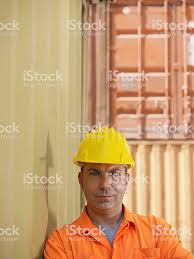Person_wearing_helmet: (71, 116, 137, 180)
